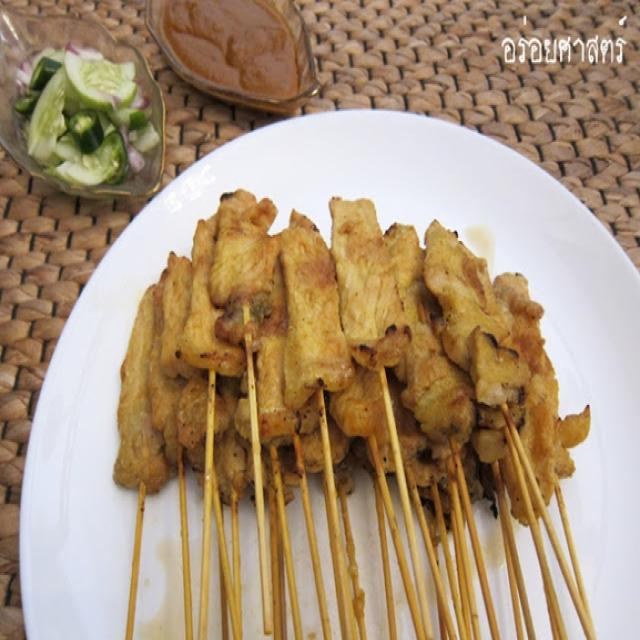牛肉菜式: (15, 82, 609, 626)
